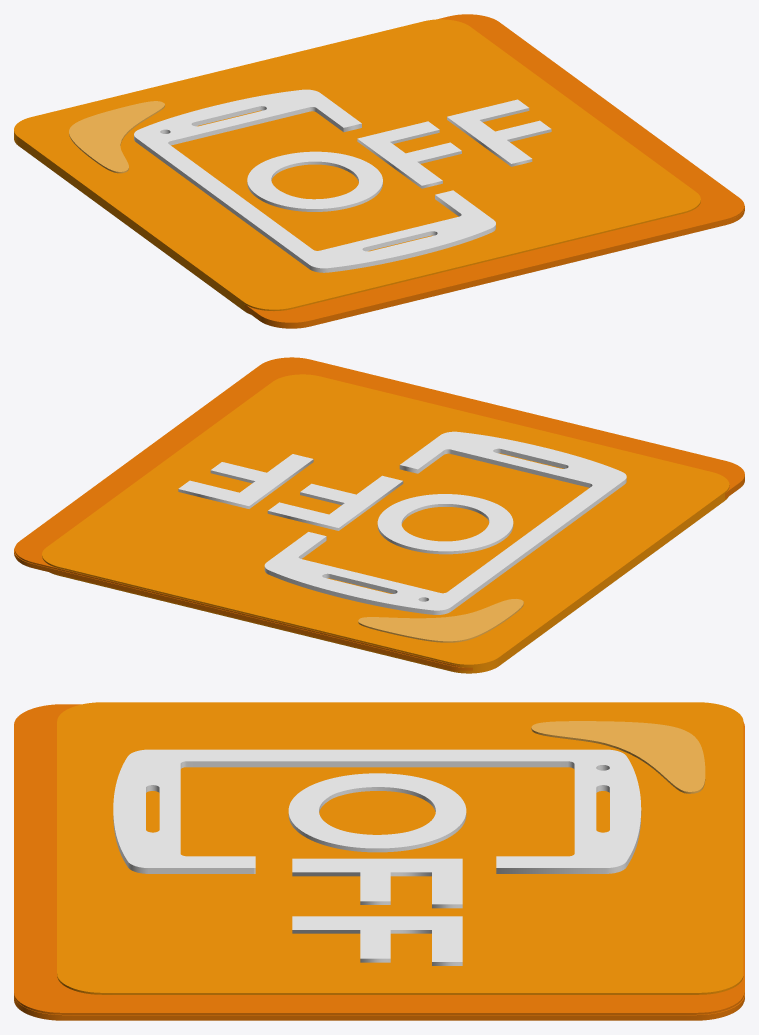
The model's file is emoji_u1f4f4.glb.
3 renders of one model, top to bottom at view 1: azimuth 30°, elevation 25°; view 2: azimuth 150°, elevation 25°; view 3: azimuth 270°, elevation 25°, orthographic. The views are drawn at different scales.
Parts seen in each view (by area): view 1: emoji_u1f4f4; view 2: emoji_u1f4f4; view 3: emoji_u1f4f4.
Part boxes in pixels (left/top/right/bottom): emoji_u1f4f4: left=14, top=14, right=744, bottom=328; emoji_u1f4f4: left=14, top=357, right=744, bottom=673; emoji_u1f4f4: left=14, top=702, right=744, bottom=1020.
Size of the model in its own units: 0.0339 by 0.0012 by 0.0339.
